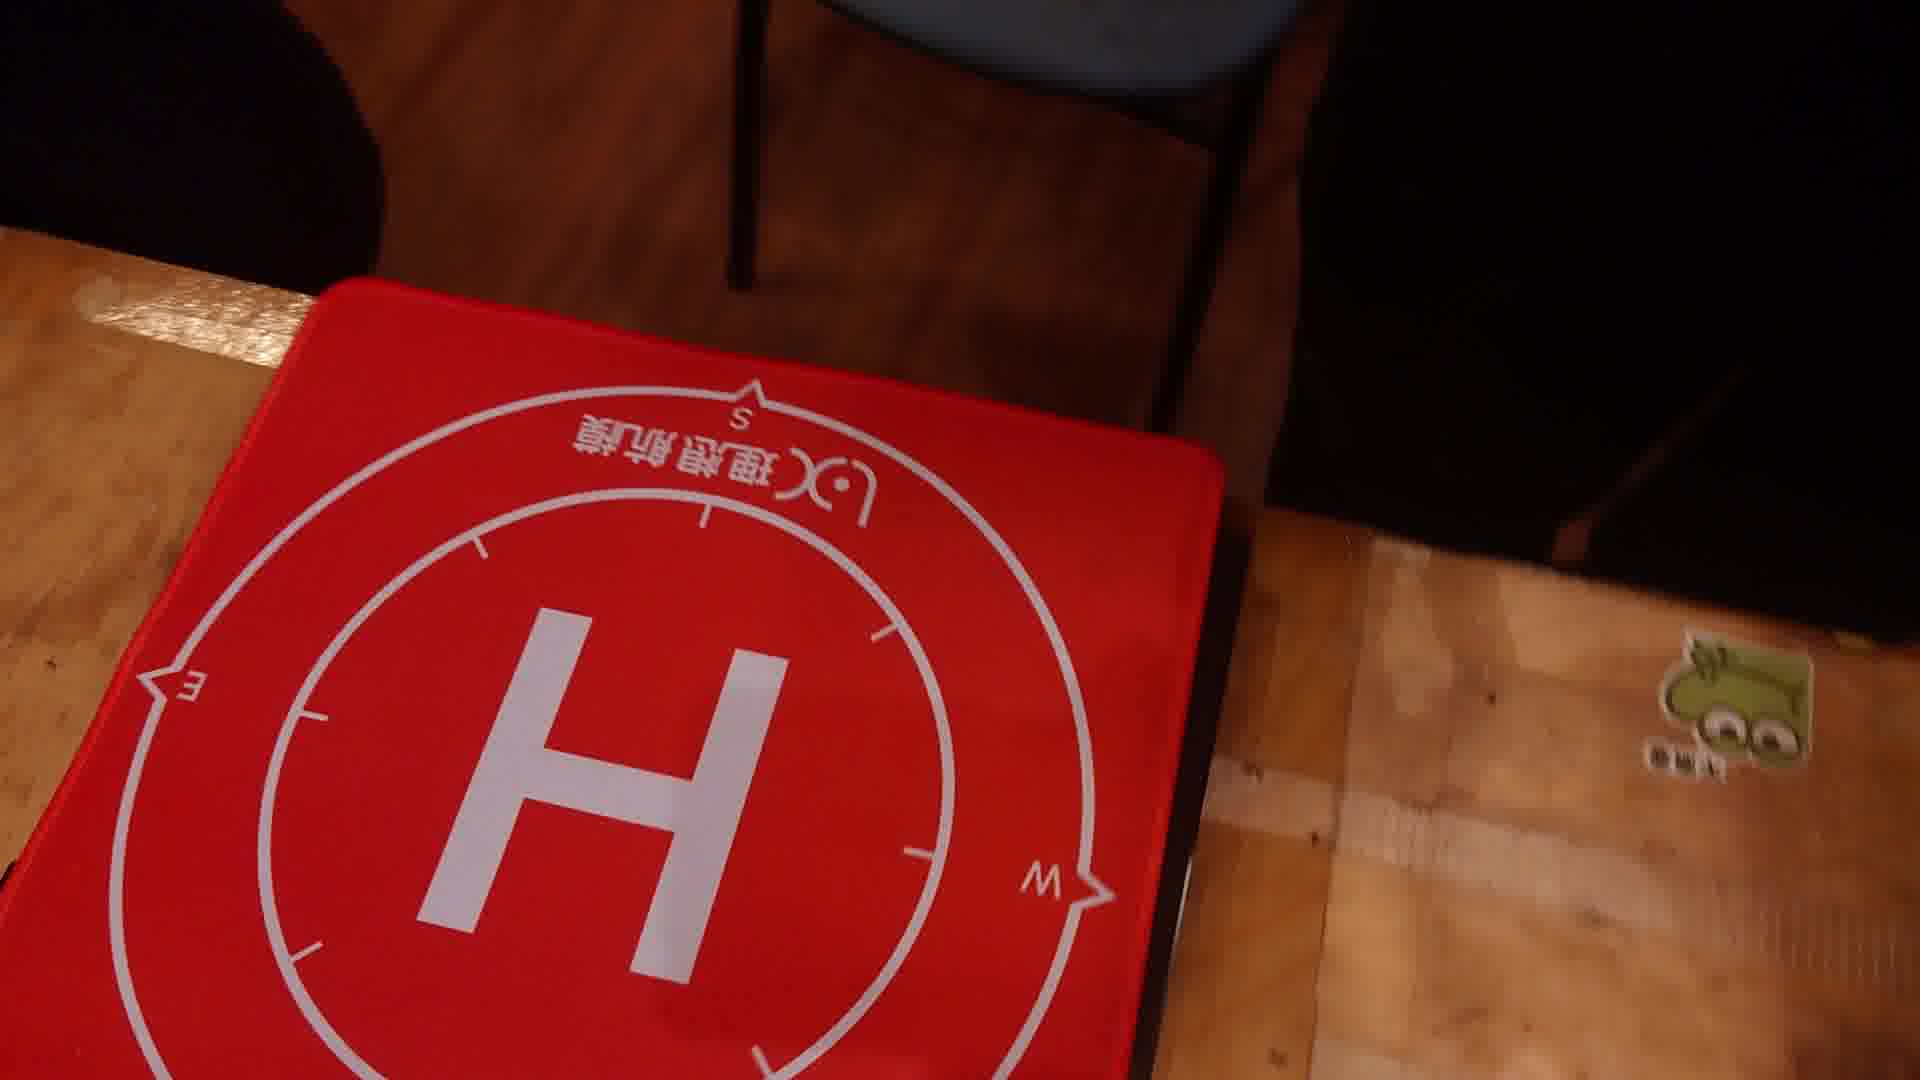H: (417, 607, 791, 986)
